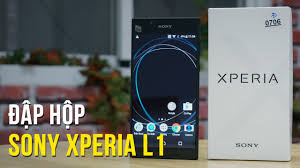sony: (210, 4, 290, 168), (127, 17, 200, 160)
